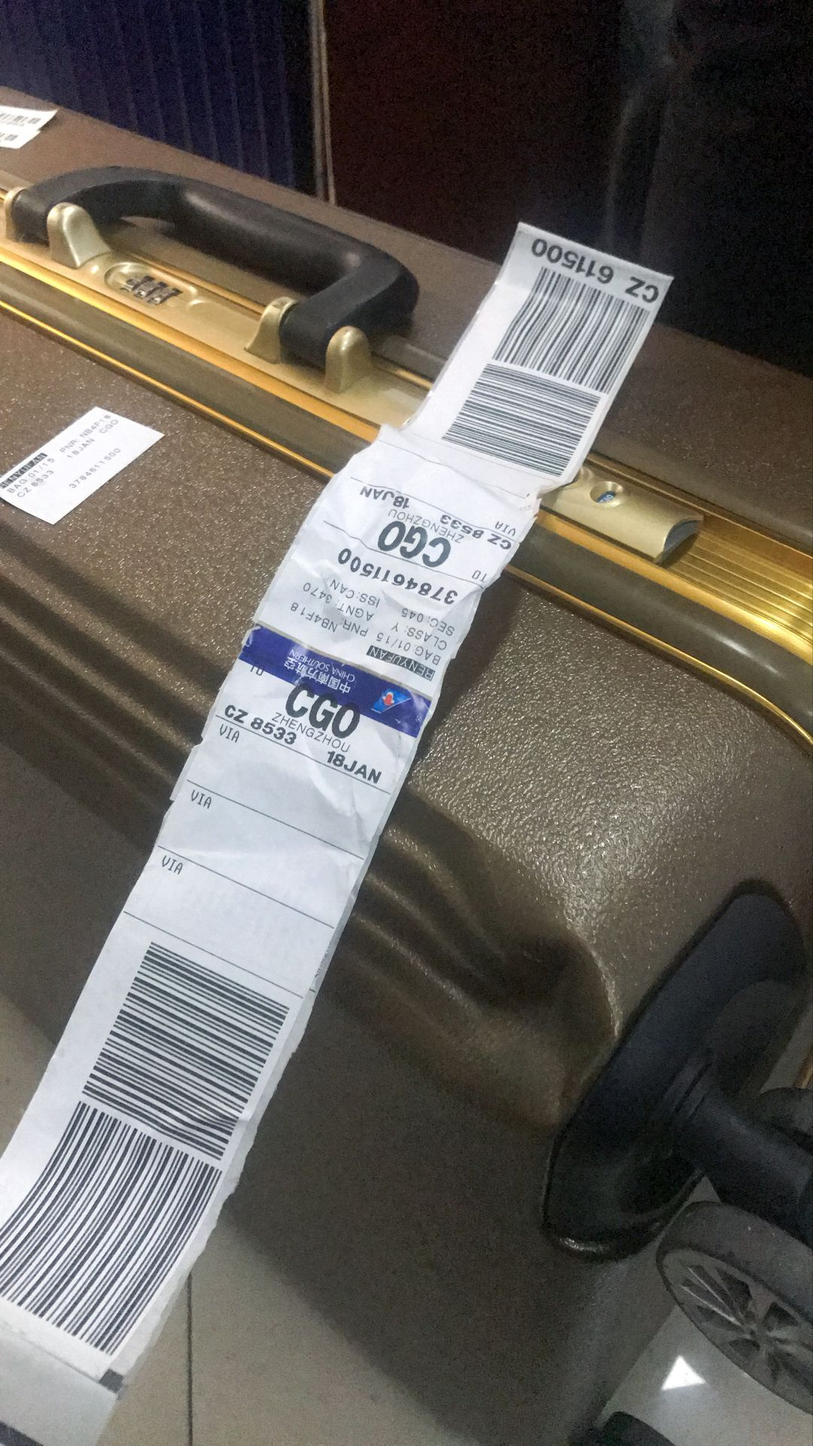rupture: (472, 927, 617, 1123)
